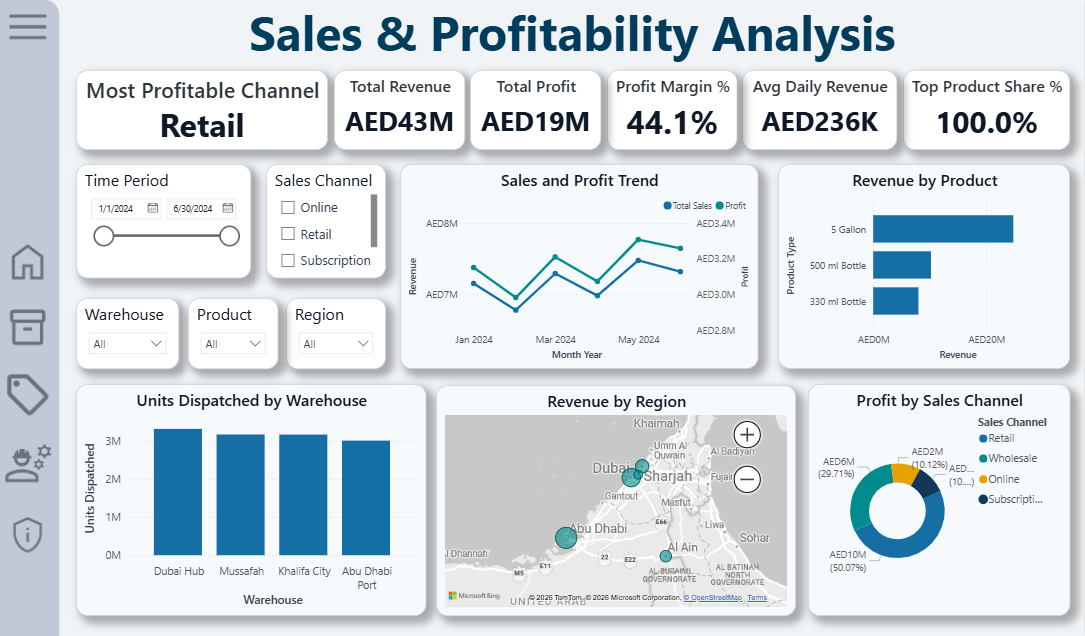

This screenshot's page, from the dashboard's own definition file:
{"tool":"powerbi","page":{"name":"Sales Overview","canvas":[1360,800],"ordinal":2},"visuals":[{"type":"shape","box":[0,0,80,800],"z":0,"group":"g1"},{"type":"slicer","title":"Sales Channel","fields":{"Values":["Rawda_production_sales.Sales Channel"]},"box":[337.5,206.1,150,142.5],"z":0},{"type":"group","id":"g1","title":"Group 1","box":[0,0,80,800],"z":1000},{"type":"actionButton","box":[0,378.5,80,63.3],"z":1000,"group":"g1"},{"type":"slicer","title":"Time Period","fields":{"Values":["Rawda_production_sales.Date"]},"box":[100,206.1,218.8,142.5],"z":2000},{"type":"actionButton","box":[0,294.9,80,67.1],"z":2000,"group":"g1"},{"type":"card","title":"Most Profitable Channel","fields":{"Values":["Min(Rawda_production_sales.Sales Channel)"]},"box":[100,88.6,315,100],"z":3000},{"type":"actionButton","box":[0,545.6,80,70.9],"z":3000,"group":"g1"},{"type":"shape","box":[97.1,0,1245.7,80],"z":4000},{"type":"actionButton","box":[0,459.5,80,69.6],"z":4000,"group":"g1"},{"type":"card","title":"Top Product Share %","fields":{"Values":["Measure Table.Product Sales Contribution %"]},"box":[1133.8,88.6,208.8,100],"z":5000},{"type":"actionButton","box":[0,636.7,80,67.1],"z":5000,"group":"g1"},{"type":"actionButton","box":[0,0,80,69.6],"z":6000,"group":"g1"},{"type":"card","title":"Total Revenue","fields":{"Values":["Measure Table.Total Sales"]},"box":[422.5,88.6,163.8,100],"z":6000},{"type":"card","title":"Avg Daily Revenue","fields":{"Values":["Measure Table.Avg Daily Sales"]},"box":[932.5,88.6,193.8,100],"z":7000},{"type":"clusteredBarChart","title":"Revenue by Product","fields":{"Y":["Measure Table.Total Sales"],"Category":["Rawda_production_sales.Product Type"]},"box":[977.5,206.1,365,256.2],"z":8000},{"type":"clusteredColumnChart","title":"Units Dispatched by Warehouse","fields":{"Category":["Rawda_production_sales.Warehouse"],"Y":["Sum(Rawda_production_sales.Units Dispatched)"]},"box":[100,481.1,437.5,290],"z":9000},{"type":"map","title":"Revenue by Region","fields":{"Size":["Measure Table.Total Sales"],"Category":["Rawda_production_sales.Dispatch Region"]},"box":[550,482,450,288.6],"z":10000},{"type":"donutChart","title":"Profit by Sales Channel","fields":{"Category":["Rawda_production_sales.Sales Channel"],"Y":["Measure Table.Total Profit"]},"box":[1015,481.1,327.5,290],"z":11000},{"type":"slicer","title":"Region","fields":{"Values":["Rawda_production_sales.Dispatch Region"]},"box":[362.5,373.6,125,88.8],"z":12000},{"type":"slicer","title":"Warehouse","fields":{"Values":["Rawda_production_sales.Warehouse"]},"box":[100,373.6,128.8,88.8],"z":13000},{"type":"card","title":"Profit Margin %","fields":{"Values":["Measure Table.Profit Margin %"]},"box":[763.8,88.6,163,100],"z":14000},{"type":"card","title":"Total Profit","fields":{"Values":["Measure Table.Total Profit"]},"box":[592.5,88.6,163.8,100],"z":15000},{"type":"lineChart","title":"Sales and Profit Trend","fields":{"Category":["Rawda_production_sales.Date Hierarchy.Month Year"],"Y":["Measure Table.Total Sales"],"Y2":["Measure Table.Total Profit"]},"box":[505,206.1,447.5,256.2],"z":16000},{"type":"slicer","title":"Product","fields":{"Values":["Rawda_production_sales.Product Type"]},"box":[240,373.6,112.5,88.8],"z":17000}]}

Visuals, with their boxes on the page's 1360x800 design canvas (x1, y1, x2, y2). These are canvas units, not pixel positions in the 1085x636 screenshot, which may show the page scaled, cropped or inside an application window:
shape: bbox=[0, 0, 80, 800]
"Sales Channel" slicer: bbox=[338, 206, 488, 349]
"Group 1" group: bbox=[0, 0, 80, 800]
actionButton: bbox=[0, 378, 80, 442]
"Time Period" slicer: bbox=[100, 206, 319, 349]
actionButton: bbox=[0, 295, 80, 362]
"Most Profitable Channel" card: bbox=[100, 89, 415, 189]
actionButton: bbox=[0, 546, 80, 616]
shape: bbox=[97, 0, 1343, 80]
actionButton: bbox=[0, 460, 80, 529]
"Top Product Share %" card: bbox=[1134, 89, 1343, 189]
actionButton: bbox=[0, 637, 80, 704]
actionButton: bbox=[0, 0, 80, 70]
"Total Revenue" card: bbox=[422, 89, 586, 189]
"Avg Daily Revenue" card: bbox=[932, 89, 1126, 189]
"Revenue by Product" clusteredBarChart: bbox=[978, 206, 1342, 462]
"Units Dispatched by Warehouse" clusteredColumnChart: bbox=[100, 481, 538, 771]
"Revenue by Region" map: bbox=[550, 482, 1000, 771]
"Profit by Sales Channel" donutChart: bbox=[1015, 481, 1342, 771]
"Region" slicer: bbox=[362, 374, 488, 462]
"Warehouse" slicer: bbox=[100, 374, 229, 462]
"Profit Margin %" card: bbox=[764, 89, 927, 189]
"Total Profit" card: bbox=[592, 89, 756, 189]
"Sales and Profit Trend" lineChart: bbox=[505, 206, 952, 462]
"Product" slicer: bbox=[240, 374, 352, 462]
